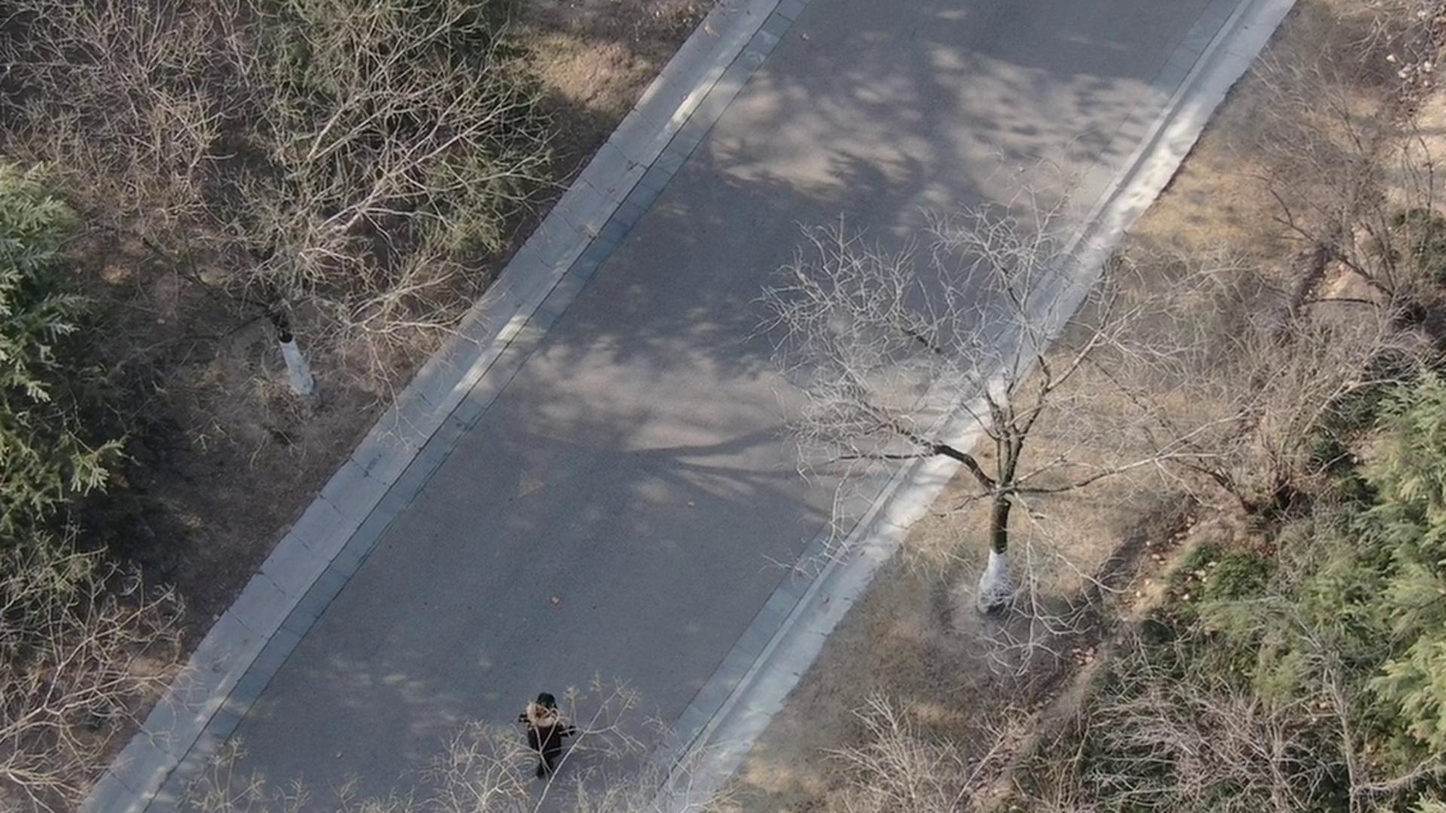human: (496, 694, 554, 784)
